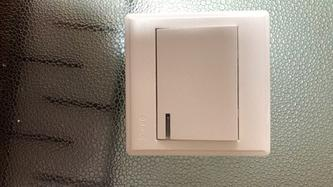switch: (143, 23, 259, 144)
